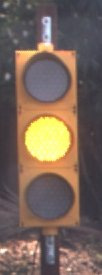Yellow: (6, 46, 78, 252)
